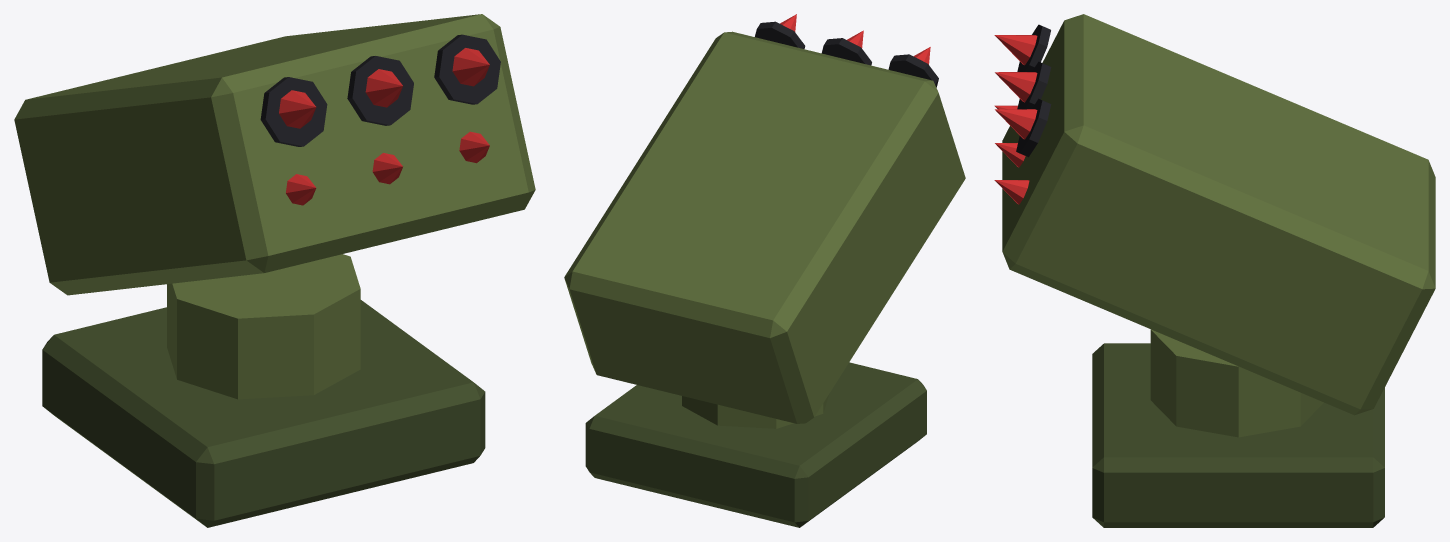
The model's file is MissileLauncher.fbx.
3 views of the same model, side by side, from view 1: azimuth 30°, elevation 25°; view 2: azimuth 150°, elevation 25°; view 3: azimuth 270°, elevation 25° (orthographic). The views are drawn at different scales.
Visible parts, largest first — view 1: MissileLauncher_Launcher, MissileLauncher; view 2: MissileLauncher_Launcher, MissileLauncher; view 3: MissileLauncher_Launcher, MissileLauncher.
Boxes of the visible parts, x1,y1,x2,y2 form: MissileLauncher_Launcher: (14, 14, 535, 399); MissileLauncher: (42, 300, 485, 527); MissileLauncher_Launcher: (564, 14, 965, 428); MissileLauncher: (585, 362, 926, 527); MissileLauncher_Launcher: (994, 14, 1435, 437); MissileLauncher: (1092, 343, 1384, 527).
Bounding box in the file's own units: 3 × 4.61 × 4.52.
1 material, 1 textured.
